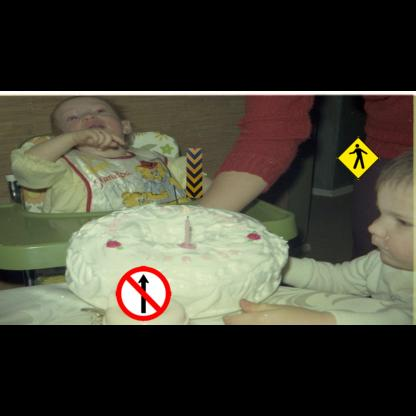A-32a: (337, 136, 380, 180)
O-MP: (186, 148, 202, 198)
R-3: (116, 266, 171, 321)
